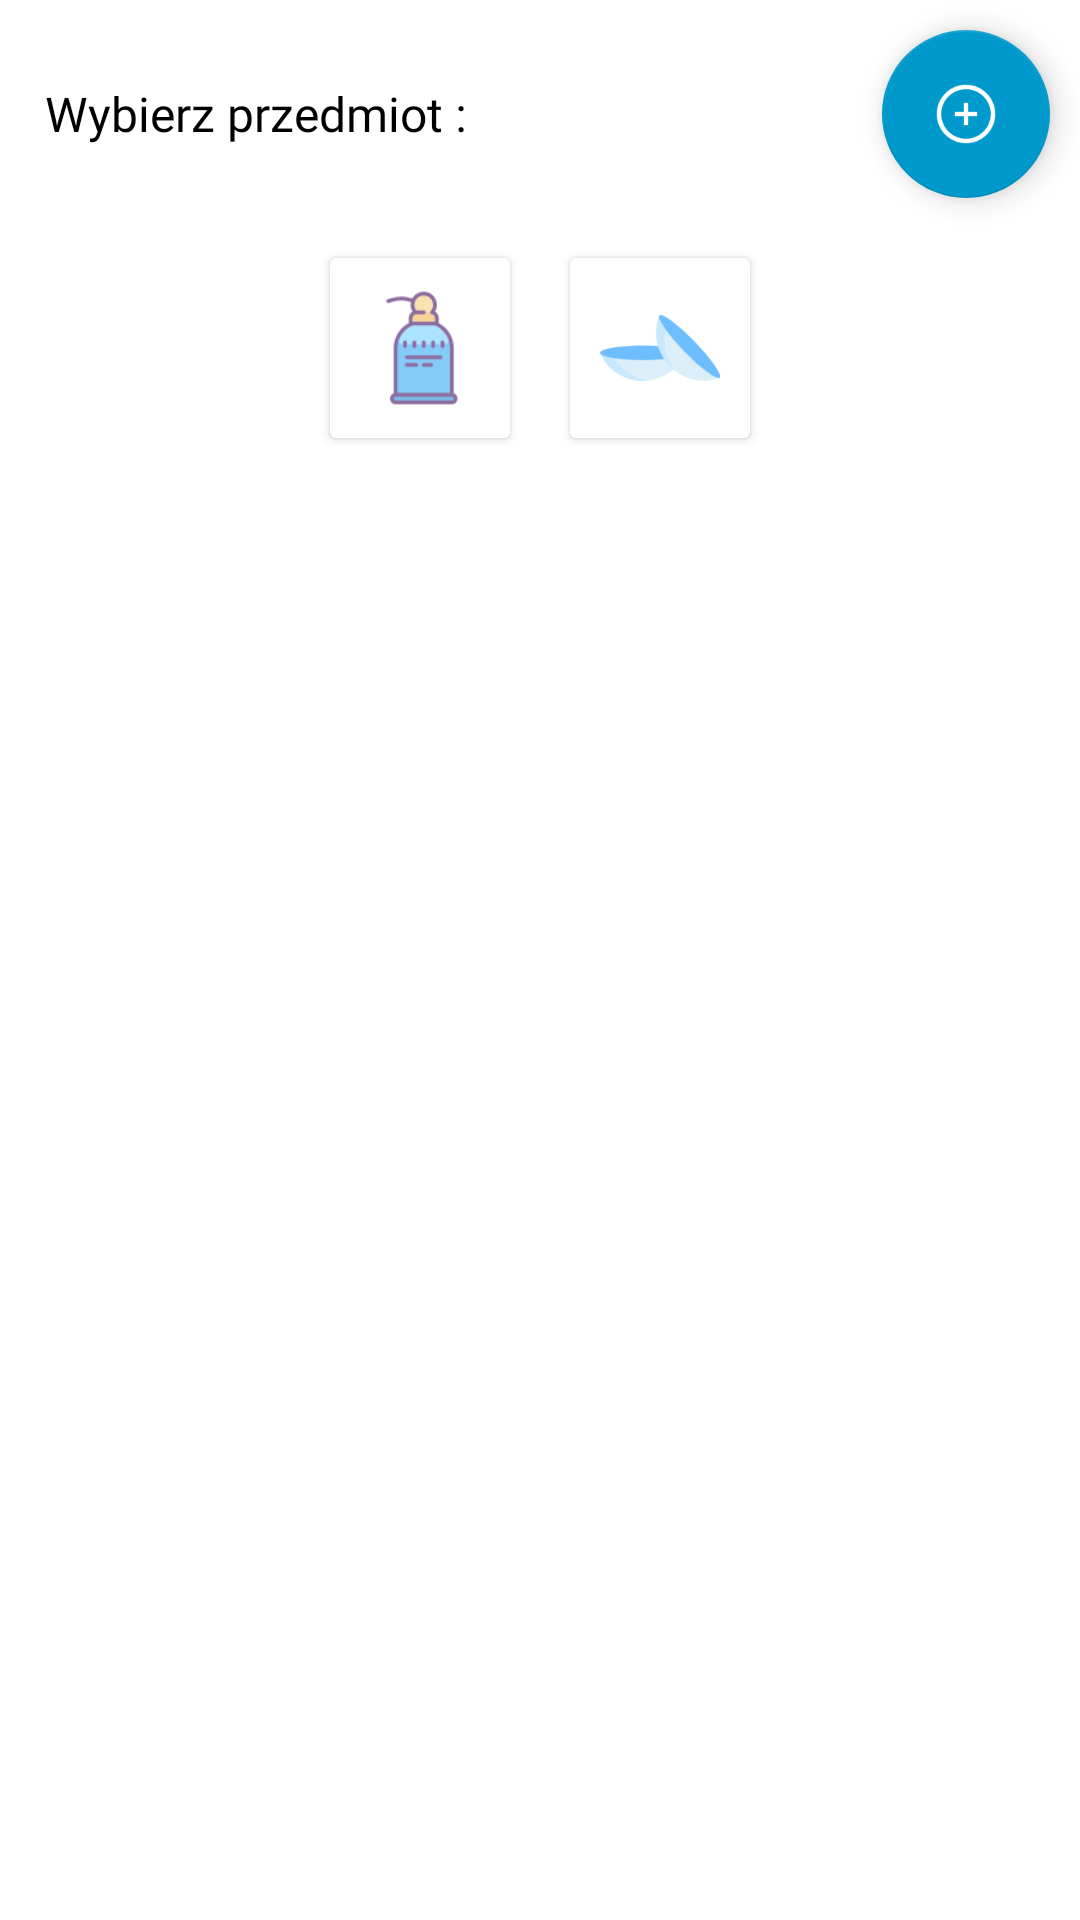

Point at icon controls on the screen. Image size 1080 x 1920, points as (x=x, y=y).
add: (x=966, y=114)
contactlens: (x=660, y=348)
liquid: (x=422, y=348)
